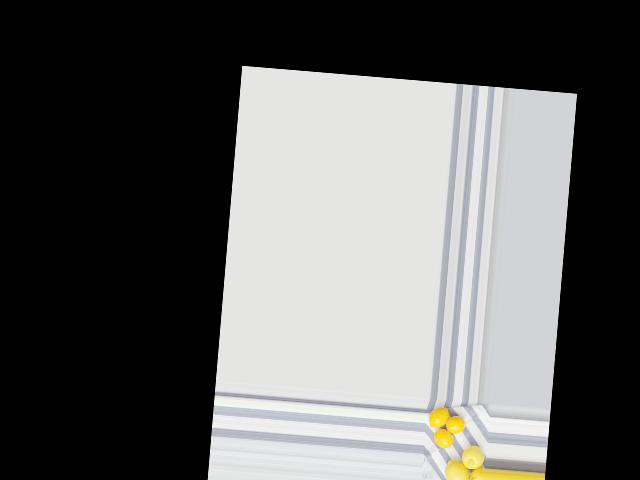lemon: (428, 406, 449, 429)
